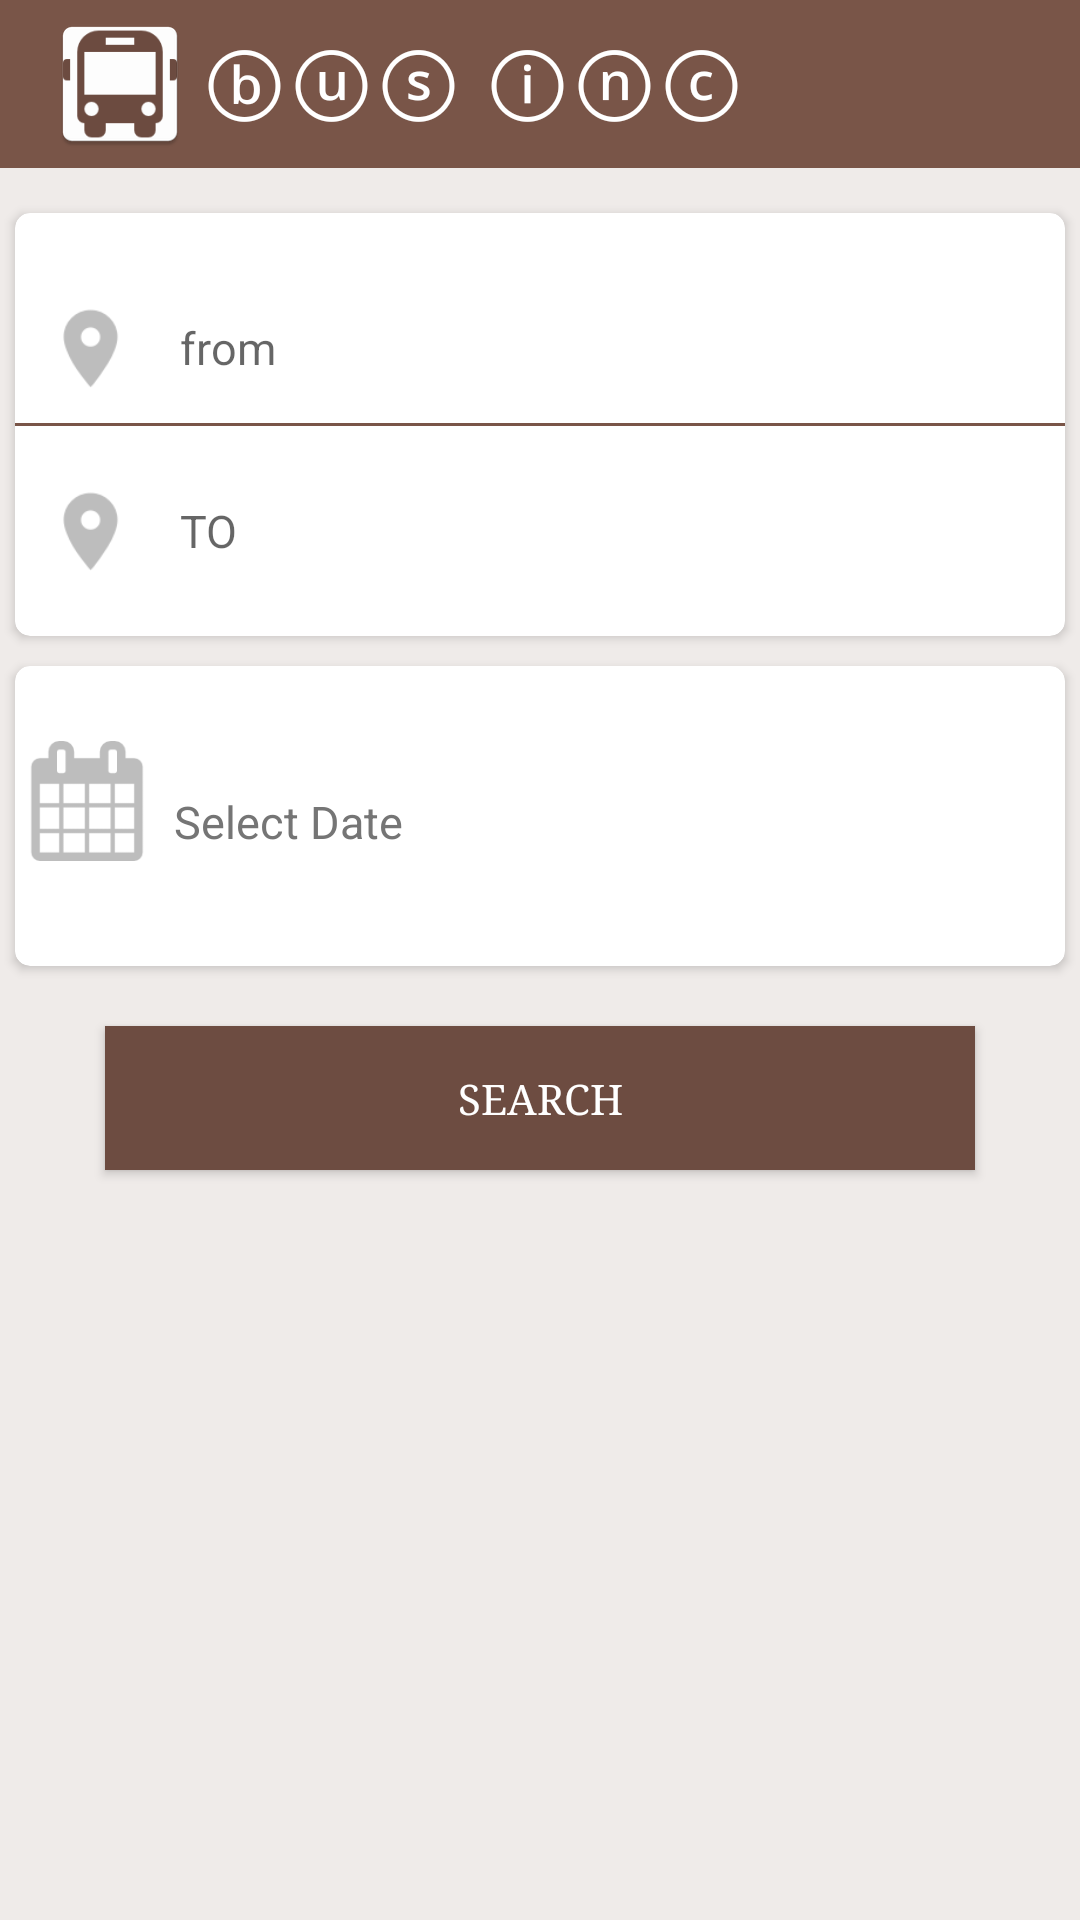

Icon click points for this 1080w x 1920h phone screenshot, format [x,y]:
location: [90,348], [90,531]
